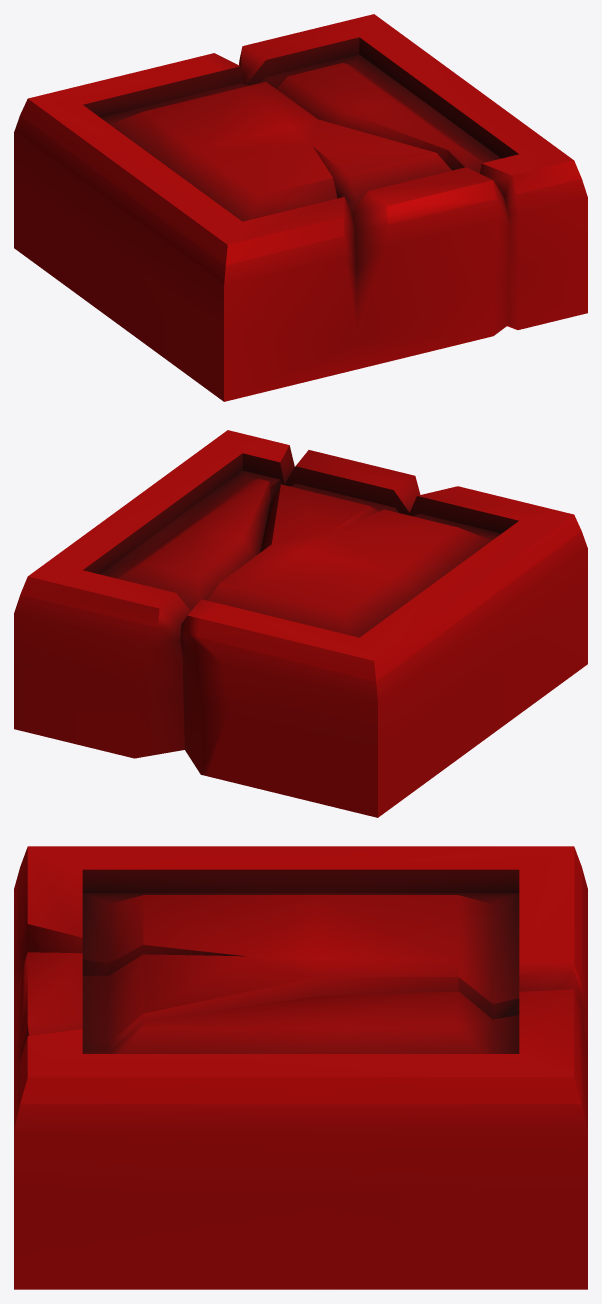
Rendered from buildings-ruins-ancientruins_v9.fbx.
The picture shows the model from 3 angles, top to bottom: view 1: azimuth 30°, elevation 25°; view 2: azimuth 150°, elevation 25°; view 3: azimuth 270°, elevation 25°; orthographic projection. The views are drawn at different scales.
Visible parts, largest first — view 1: AncientRuins_v9; view 2: AncientRuins_v9; view 3: AncientRuins_v9.
Part boxes in pixels (x1,y1,x2,y2): AncientRuins_v9: (14, 14, 587, 401); AncientRuins_v9: (14, 430, 587, 817); AncientRuins_v9: (14, 846, 587, 1289).
Size of the model in its own units: 3.61 by 1.43 by 3.61.
